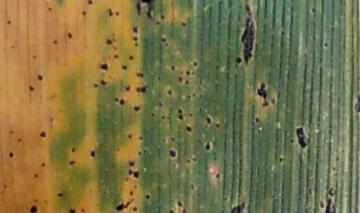tarspot: (240, 2, 255, 66), (134, 1, 156, 20), (256, 81, 269, 109), (294, 125, 307, 150), (115, 200, 132, 212), (324, 197, 336, 213), (228, 202, 245, 213), (353, 93, 360, 115), (99, 62, 109, 72), (131, 25, 140, 35), (204, 114, 212, 125), (160, 36, 168, 47), (135, 86, 147, 93), (269, 95, 276, 107), (88, 149, 97, 158), (68, 158, 77, 167), (65, 30, 74, 39), (27, 84, 36, 93), (168, 149, 176, 159), (327, 187, 335, 196), (204, 140, 210, 152), (30, 204, 38, 213), (184, 125, 192, 134), (36, 73, 44, 82), (132, 105, 141, 113), (127, 53, 135, 62), (135, 71, 144, 79), (133, 170, 140, 180), (107, 6, 113, 17), (38, 130, 46, 138), (80, 9, 88, 17), (104, 38, 112, 46), (128, 159, 136, 167), (234, 55, 241, 64), (175, 114, 184, 121), (318, 198, 324, 208), (8, 151, 15, 159), (70, 146, 77, 154), (127, 189, 135, 196), (180, 20, 188, 27), (131, 35, 139, 42), (91, 81, 99, 88), (9, 43, 16, 51), (120, 63, 127, 71), (176, 106, 183, 114), (183, 69, 190, 77), (32, 196, 39, 204), (100, 78, 106, 87), (119, 98, 125, 107), (166, 88, 172, 97), (214, 172, 221, 179), (176, 200, 183, 207), (127, 133, 134, 140), (114, 146, 121, 153), (253, 115, 259, 123), (125, 85, 131, 93), (49, 115, 55, 123), (161, 136, 167, 144), (57, 107, 65, 113), (167, 208, 176, 213), (67, 208, 76, 213), (145, 193, 150, 202), (190, 182, 195, 191), (323, 40, 329, 47), (278, 156, 284, 163), (57, 191, 63, 198), (33, 172, 39, 179), (40, 161, 46, 168), (127, 168, 133, 175), (214, 122, 220, 129), (133, 42, 140, 48), (46, 6, 53, 12), (5, 19, 12, 25), (52, 38, 58, 45), (192, 60, 198, 67), (169, 64, 175, 71), (155, 75, 161, 82), (177, 76, 183, 83), (184, 78, 190, 85), (154, 19, 160, 26), (137, 135, 144, 141), (123, 177, 130, 183), (310, 6, 315, 14), (307, 188, 313, 194), (86, 1, 92, 7), (114, 10, 120, 16), (8, 129, 14, 135), (31, 54, 37, 60), (112, 53, 118, 59), (159, 13, 165, 19), (79, 207, 85, 213), (289, 136, 294, 143), (114, 96, 119, 103), (133, 183, 138, 190), (192, 156, 197, 163), (42, 199, 49, 204), (3, 183, 8, 190), (16, 137, 21, 143), (157, 101, 162, 107), (187, 112, 193, 117), (186, 93, 191, 99), (169, 136, 175, 141), (186, 158, 191, 164), (160, 114, 165, 120), (182, 206, 186, 213), (191, 91, 195, 98), (132, 206, 137, 211), (150, 112, 155, 117), (137, 150, 142, 155)
